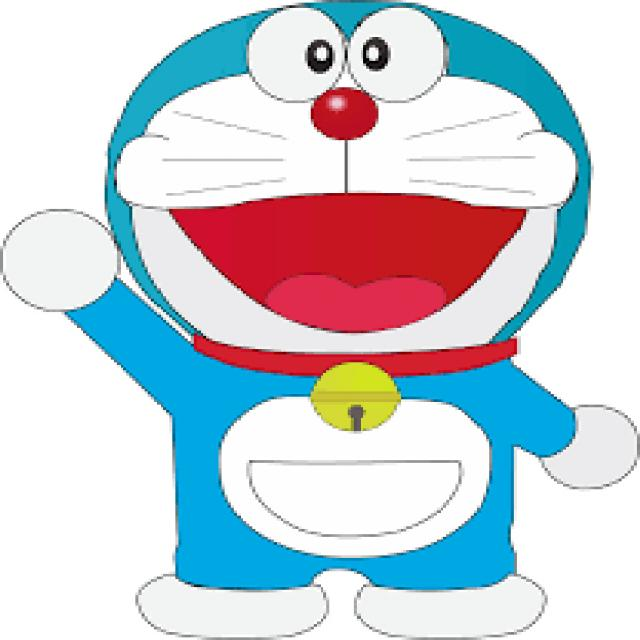Ameng: (95, 0, 621, 383)
